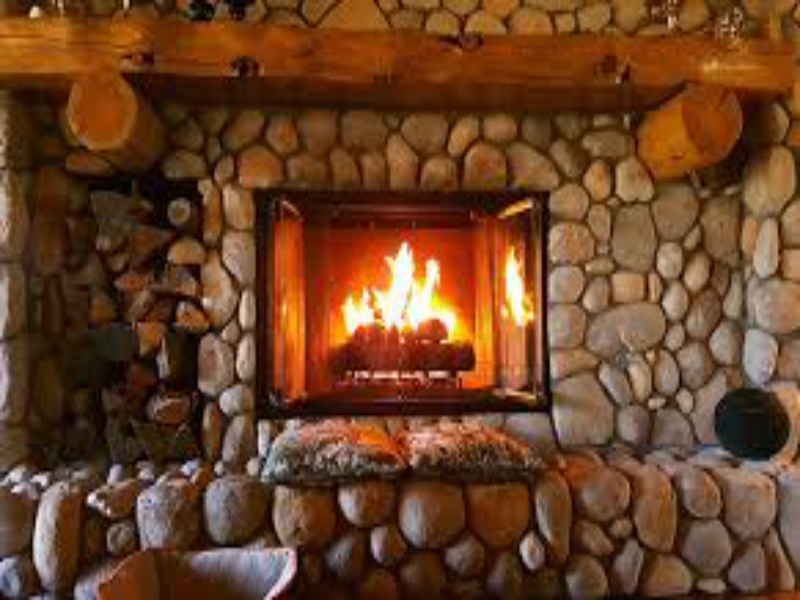fire: (322, 239, 477, 337), (503, 243, 539, 331)
